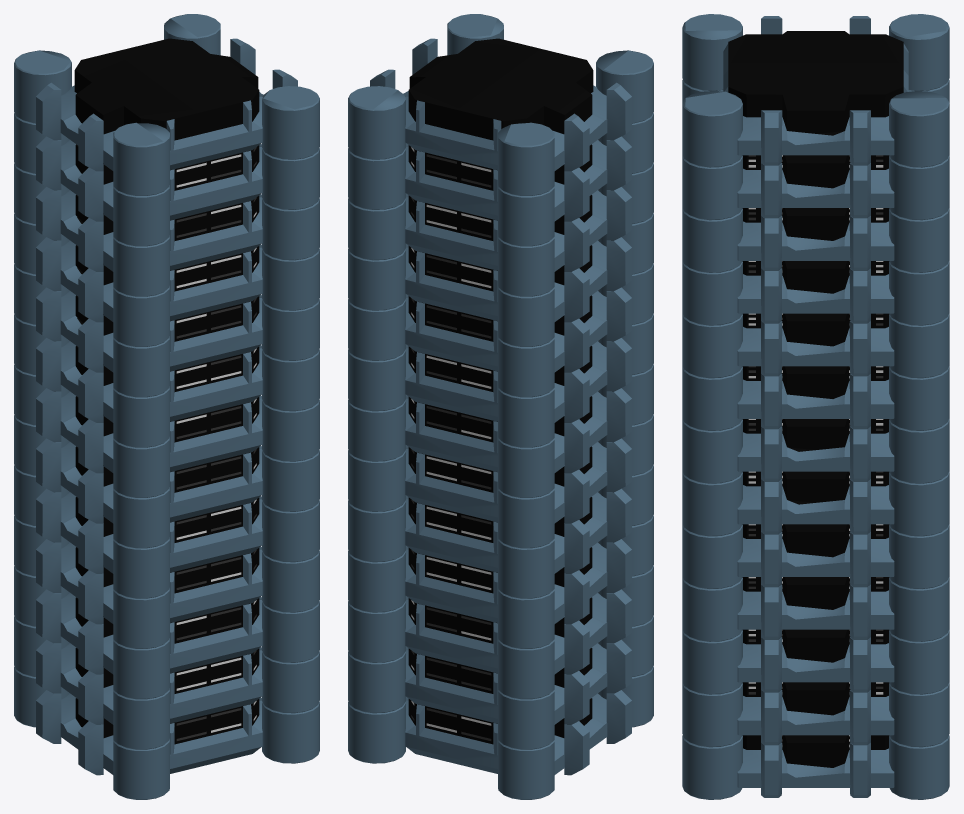
Rendered from building_018.glb.
3 views of the same model, side by side, from view 1: azimuth 30°, elevation 25°; view 2: azimuth 150°, elevation 25°; view 3: azimuth 270°, elevation 25° (orthographic). The views are drawn at different scales.
Parts seen in each view (by area): view 1: building.018; view 2: building.018; view 3: building.018.
Boxes of the visible parts, left/top/right/bottom form: building.018: left=14, top=14, right=319, bottom=799; building.018: left=348, top=14, right=653, bottom=799; building.018: left=682, top=14, right=949, bottom=799.
Bounding box in the file's own units: 4.9 × 14.38 × 5.08.
